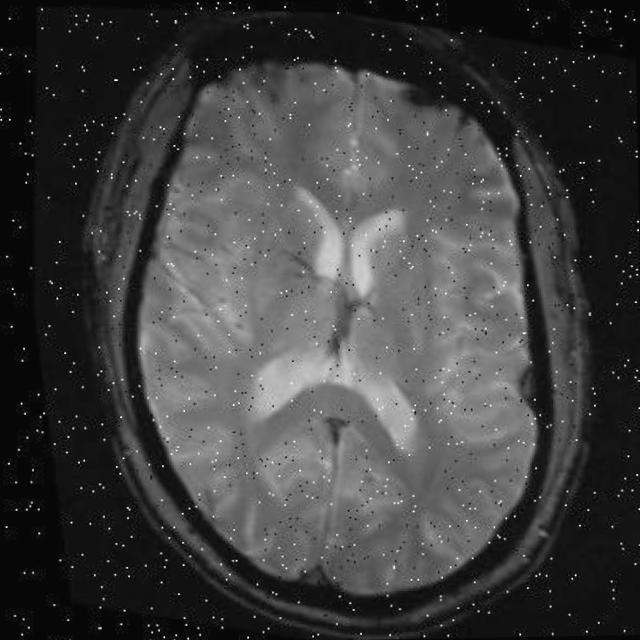EMCI: (467, 313, 560, 436), (197, 44, 303, 124), (388, 75, 480, 147)
